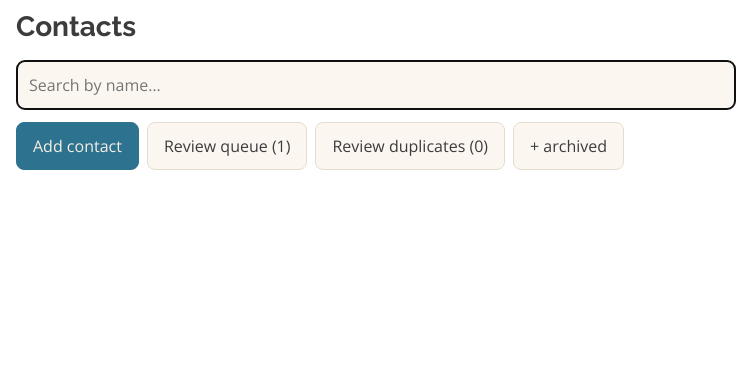
held merges in the review queue (feature 069) › names both contacts and the reason it stopped
The width and height of the screenshot is (753, 370).
Click the button "Review queue (1)": (227, 146) [147,122,308,170]
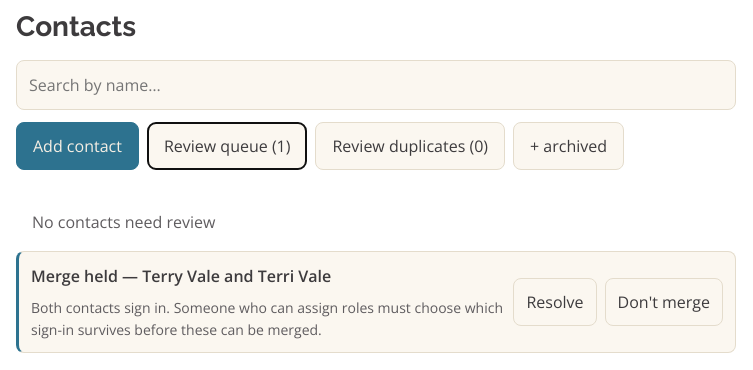
Expected: the text "Both contacts sign in" is shown, [31,298,503,339]
